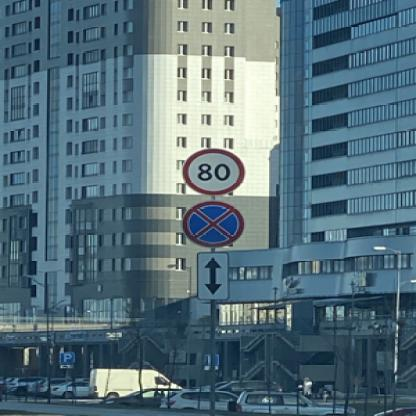speedlimit: (179, 147, 244, 194)
